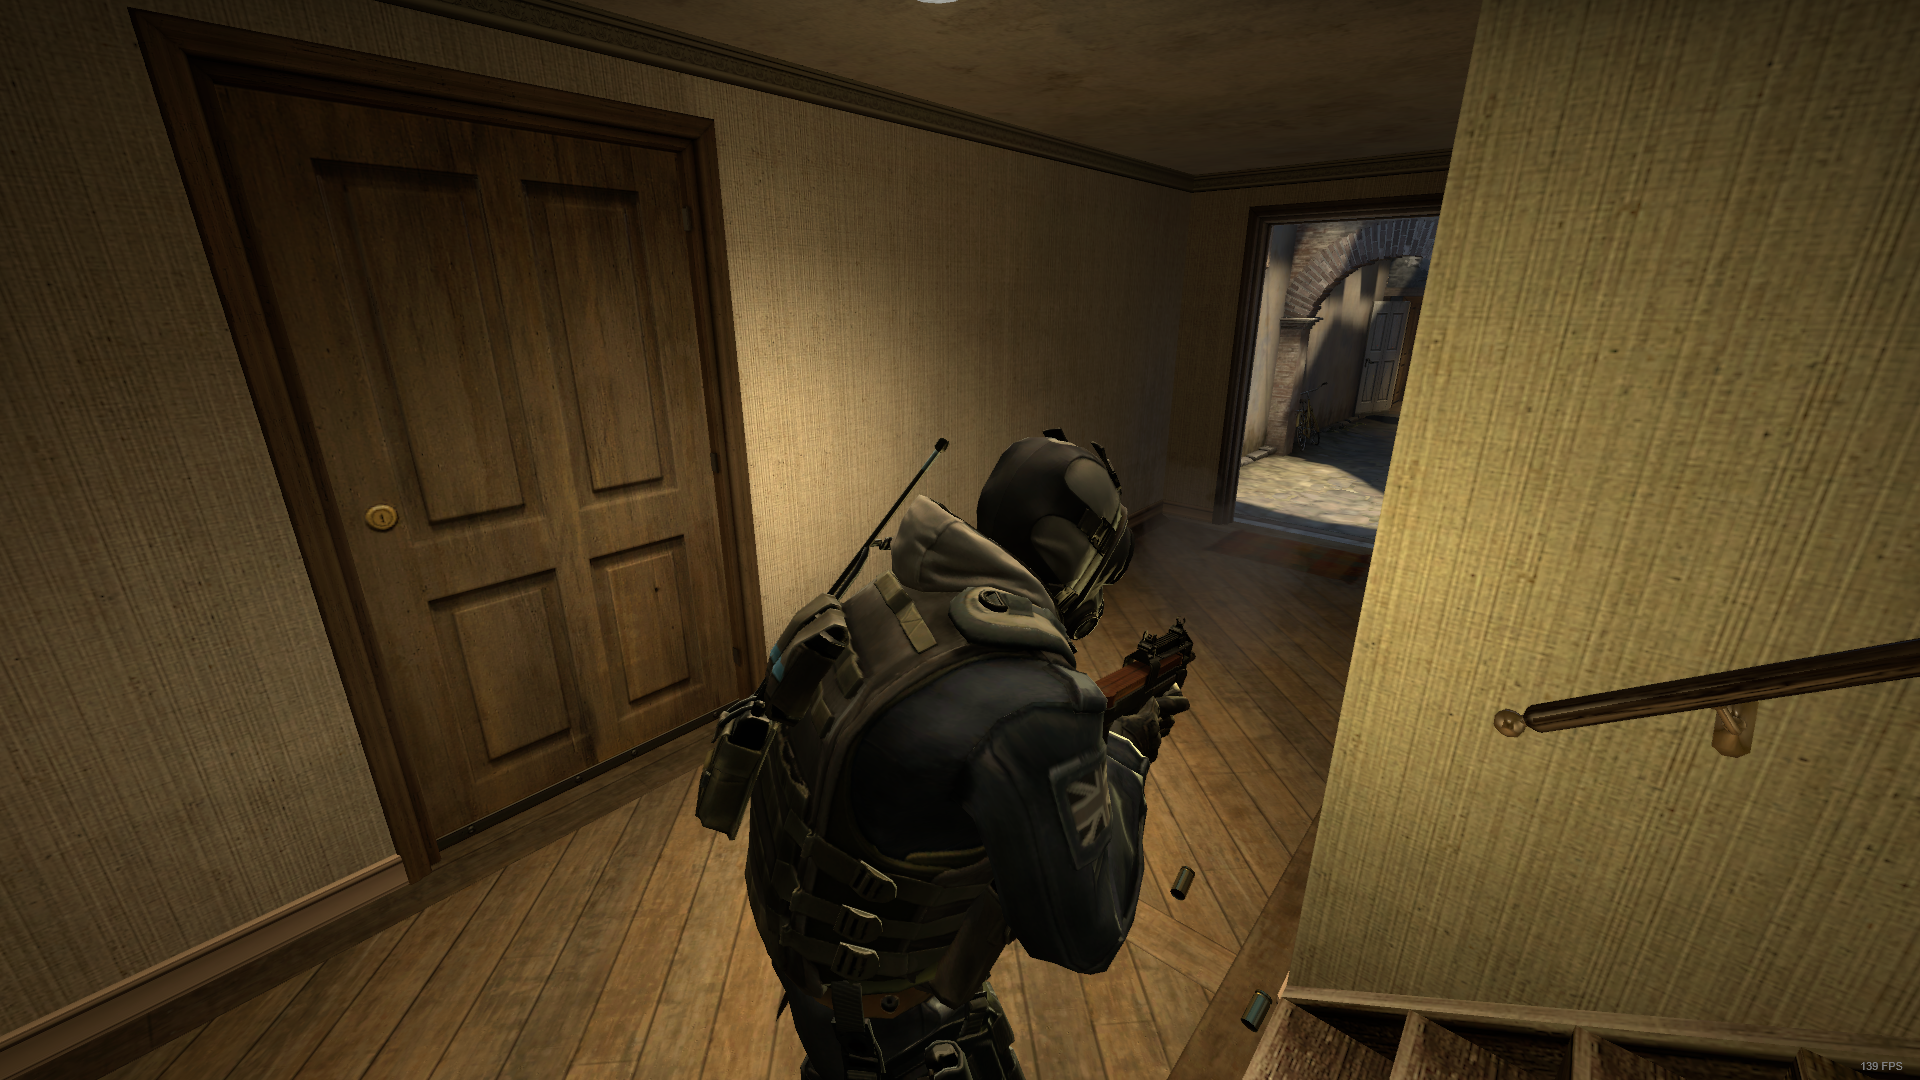ct: (698, 417, 1197, 1080)
